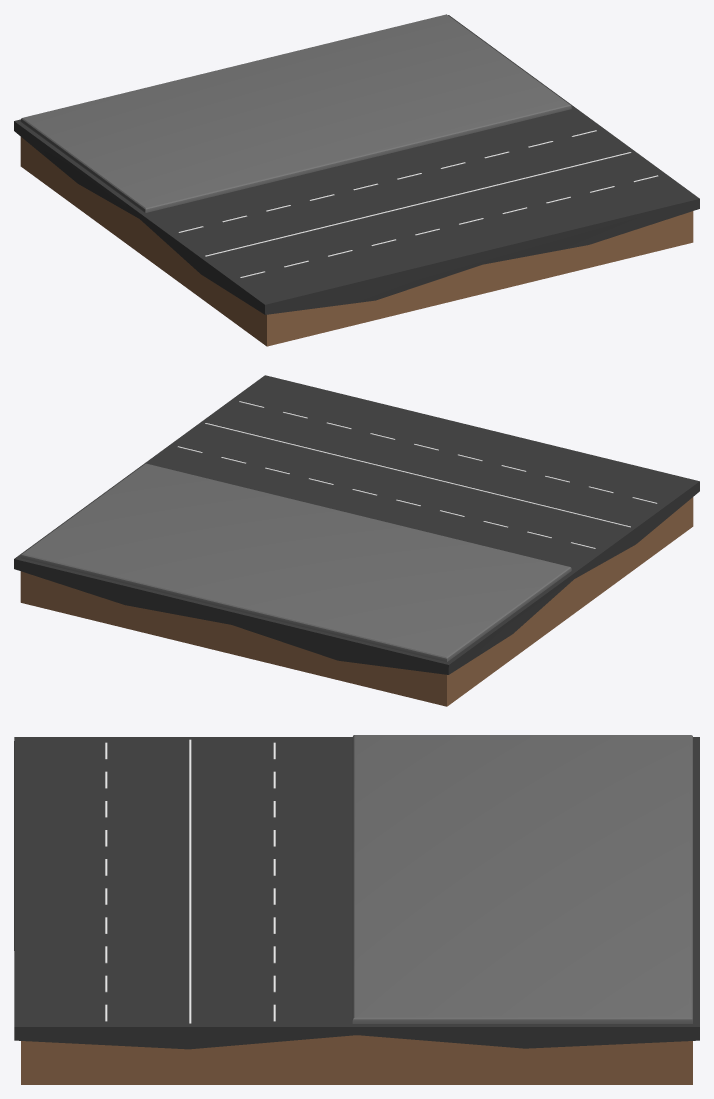
3 views of the same model, one above another, from view 1: azimuth 30°, elevation 25°; view 2: azimuth 150°, elevation 25°; view 3: azimuth 270°, elevation 25° (orthographic). The views are drawn at different scales.
Parts seen in each view (by area): view 1: Base; view 2: Base; view 3: Base.
Part boxes in pixels (<box>): Base: <box>14,14,699,346</box>; Base: <box>14,375,699,706</box>; Base: <box>14,735,699,1084</box>.
Bounding box in the file's own units: 10200 × 1100 × 10205.
